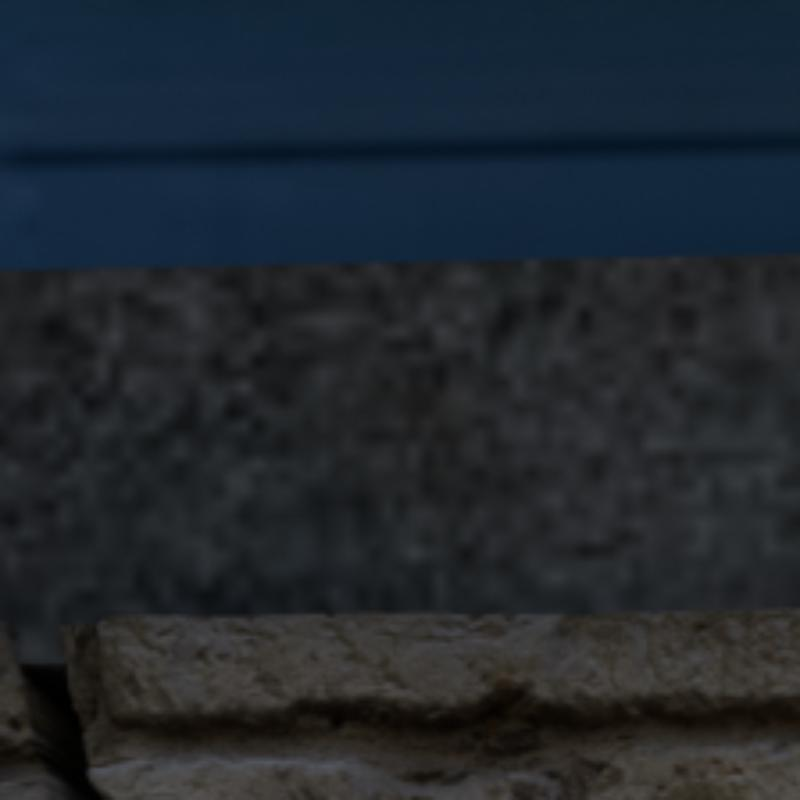pothole: (14, 661, 107, 796)
